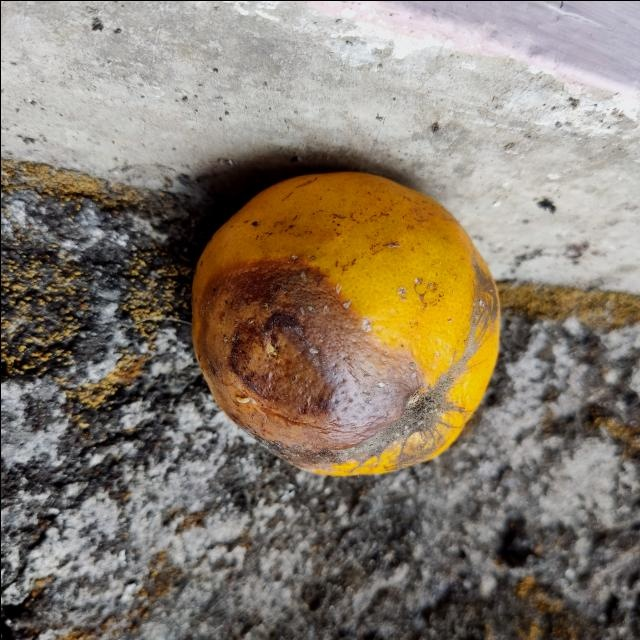agrume: (193, 172, 501, 476)
